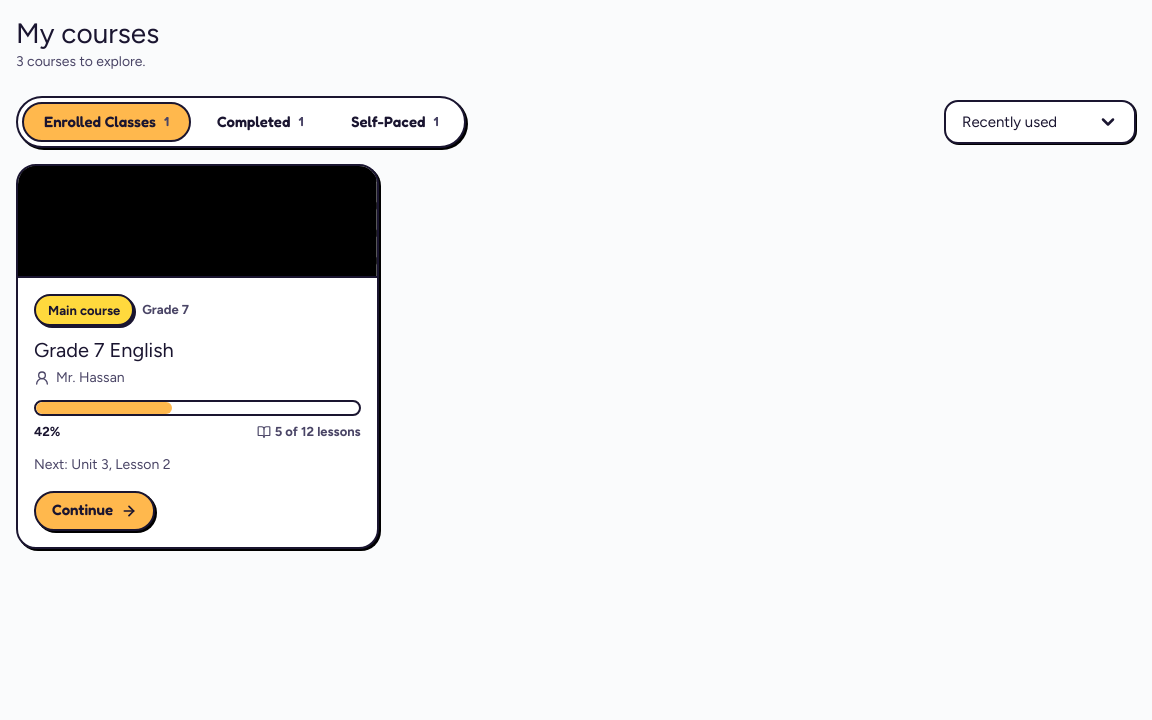
Scenario: CoursesPage › filters with the tabs without fetching again
This screenshot has width=1152, height=720.
Check: the link "Grade 7 English" is shown, box [34, 338, 174, 362]
What coordinates should you click on to do the following:
click the tab "Completed 1"
I would click on:
 (260, 122)
Its box is [195, 102, 325, 142].
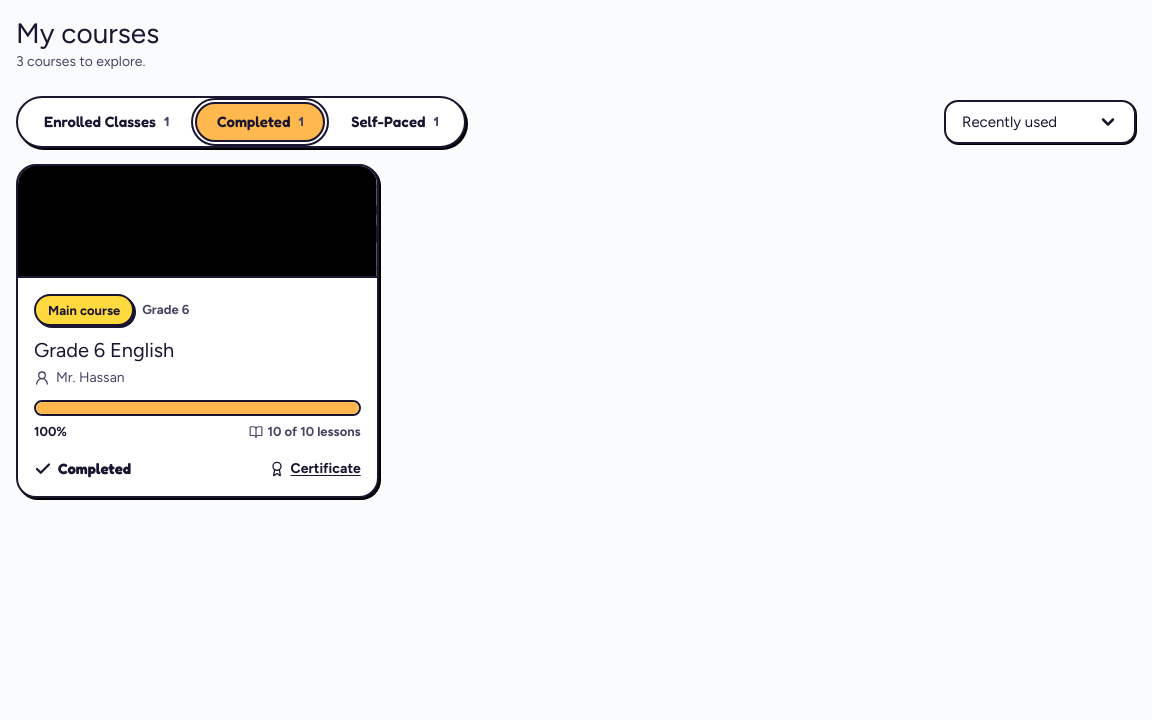
Check: the link "Grade 6 English" is shown, box [34, 338, 174, 362]
Check: the link "Grade 7 English" is gone
Check: the text "Completed" is shown, box [34, 458, 131, 480]
What coordinates should you click on to do the following:
click the tab "Self-Paced 1"
I would click on:
 (395, 122)
Its box is [329, 102, 460, 142].
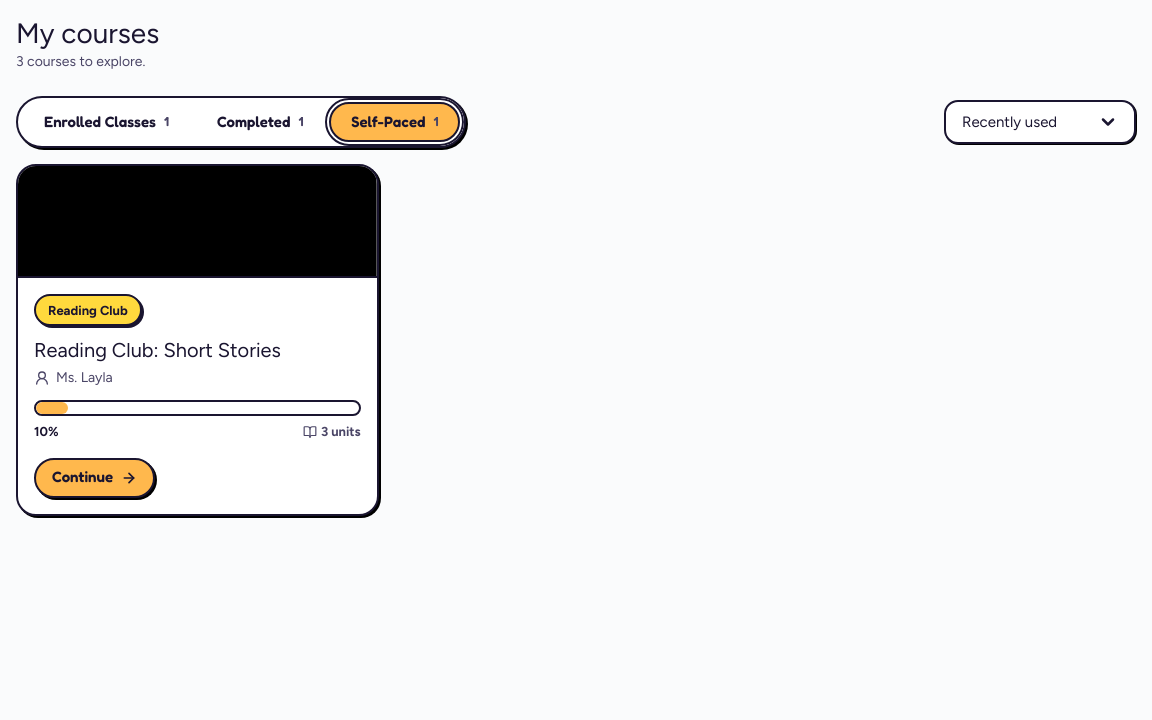
Check: the link "Reading Club: Short Stories" is shown, box [34, 338, 281, 362]
Check: the link "Grade 6 English" is gone
What coordinates should you click on to do the following:
click the tab "Enrolled Classes 1"
I would click on:
 (106, 122)
Its box is [22, 102, 191, 142].
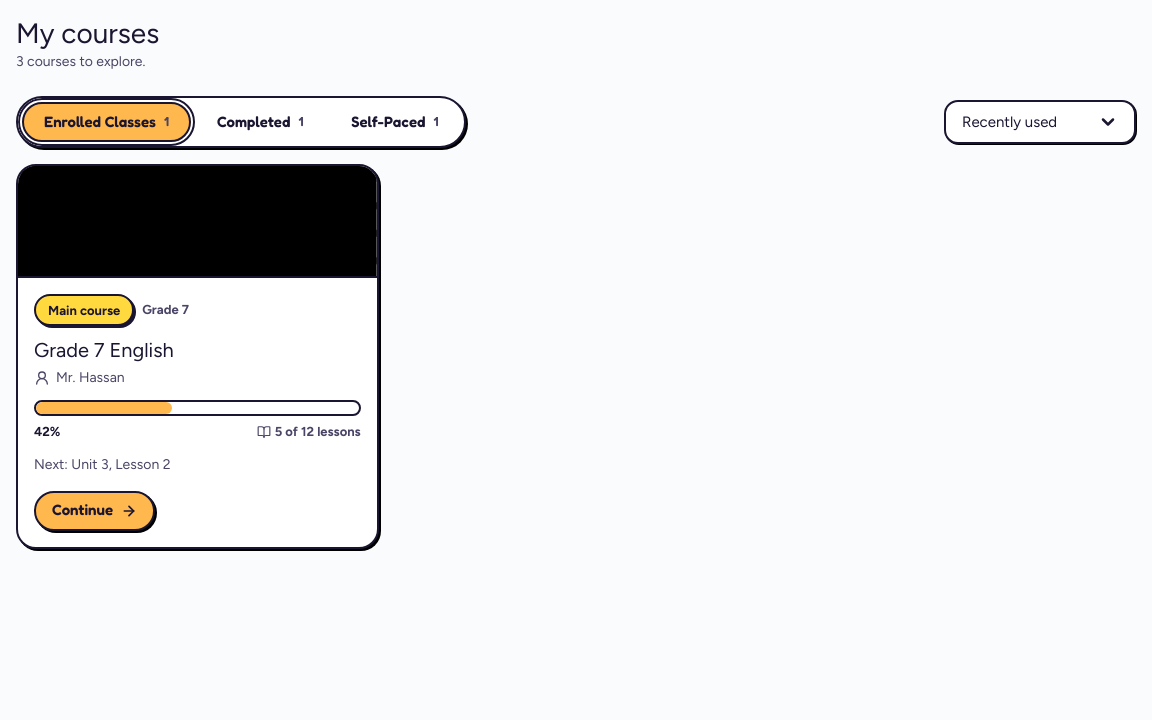
Check: the link "Grade 7 English" is shown, box [34, 338, 174, 362]
